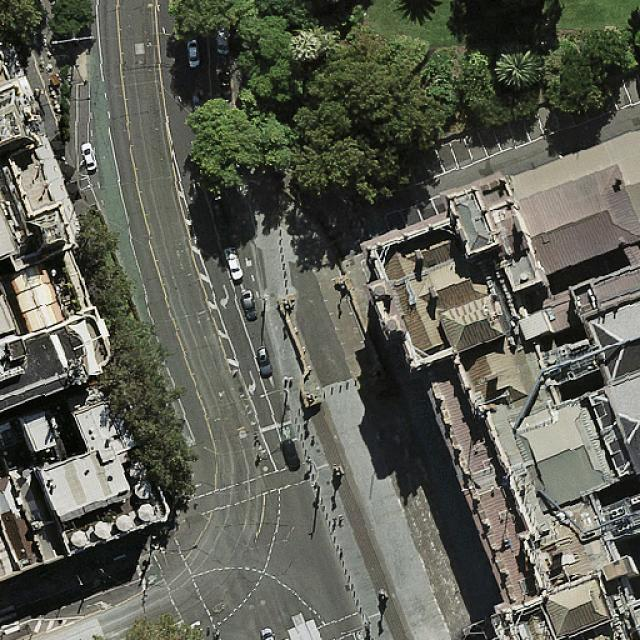Bike-Symbols: (279, 427, 294, 441), (146, 573, 160, 585), (93, 576, 104, 591)
